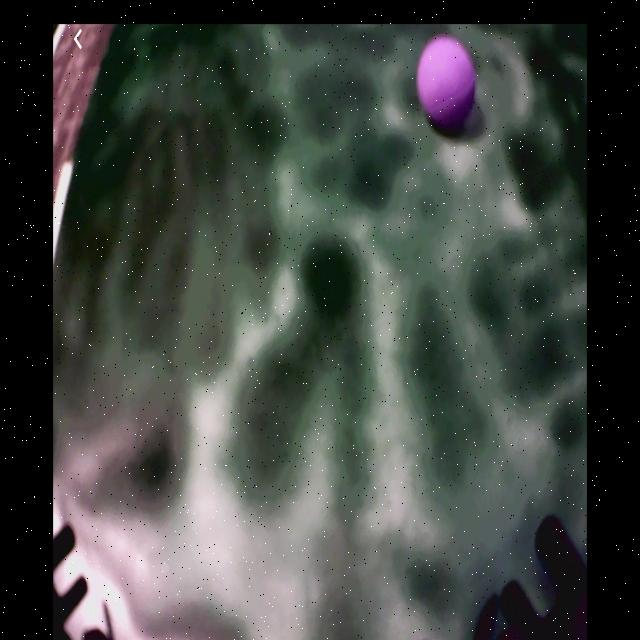ball: (417, 37, 477, 131)
